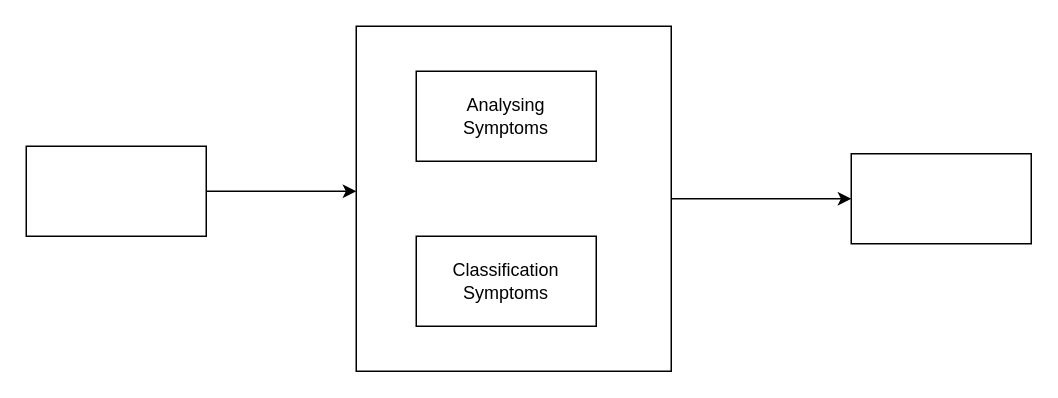
Some shapes in this 1058 by 398 pixel diagram are drawn without their labels. Here are the shapes that lost their labels. From the top down, the centre of each, then its label:
At [115,190]: "Input".
At [940,198]: "Output".
